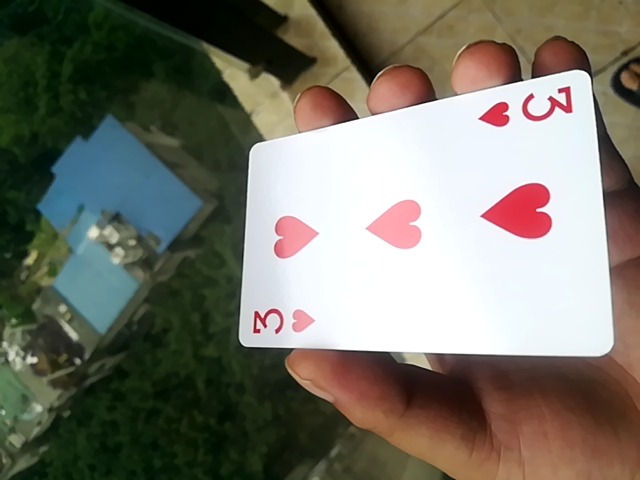hx 3: (230, 70, 613, 365)
